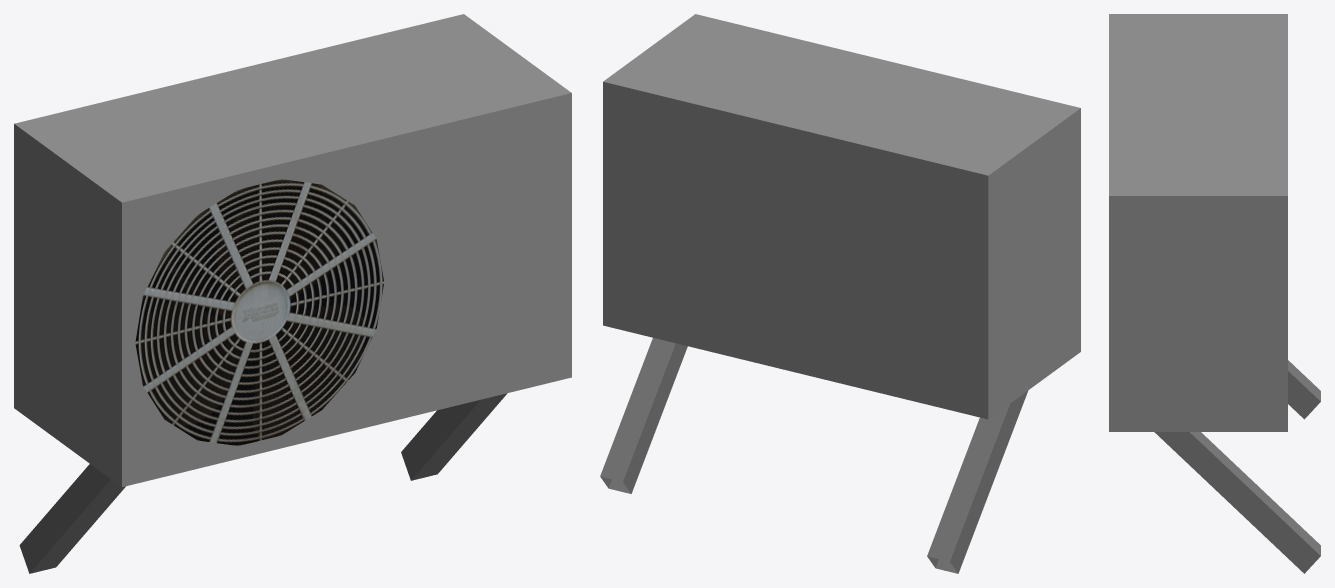
The model's file is Air_Con.FBX.
3 views of the same model, side by side, from view 1: azimuth 30°, elevation 25°; view 2: azimuth 150°, elevation 25°; view 3: azimuth 270°, elevation 25° (orthographic). The views are drawn at different scales.
Parts seen in each view (by area): view 1: Air_Con; view 2: Air_Con; view 3: Air_Con.
Part boxes in pixels (x1=…): Air_Con: x1=14, y1=14, x2=571, y2=573; Air_Con: x1=600, y1=14, x2=1080, y2=573; Air_Con: x1=1109, y1=14, x2=1320, y2=573.
Bounding box in the file's own units: 1.14 × 1.13 × 0.5627.
3 materials, 1 textured.
